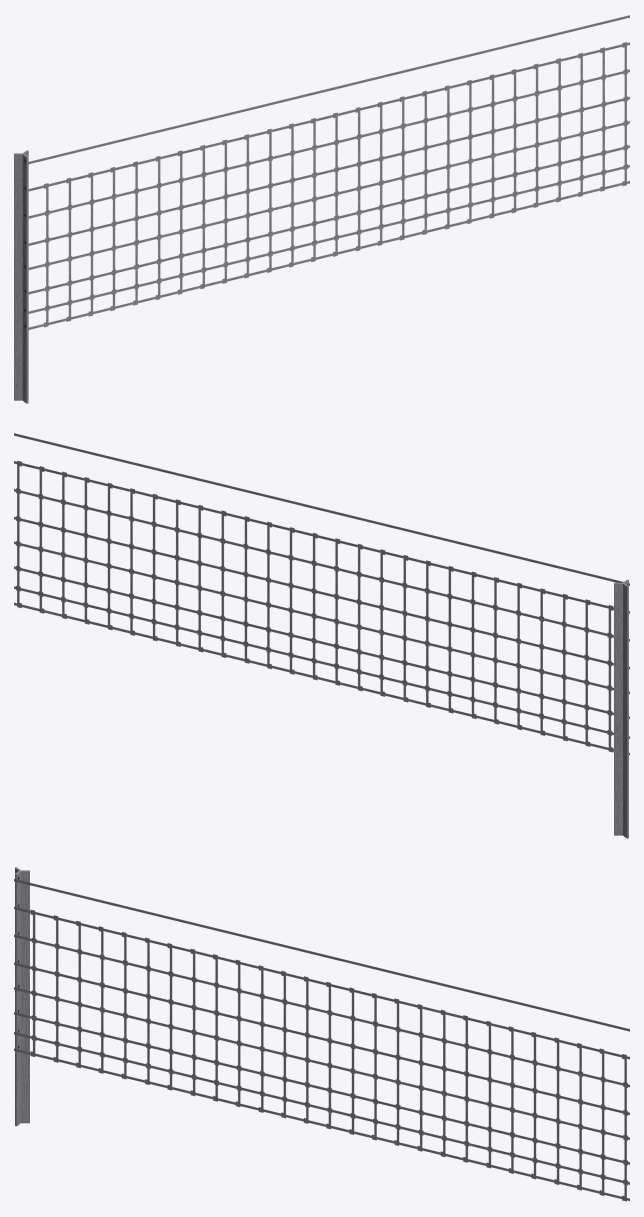
Rendered from fence-low-mesh-1s-cbj_LOD00.gltf.
3 views of the same model, one above another, from view 1: azimuth 30°, elevation 25°; view 2: azimuth 150°, elevation 25°; view 3: azimuth 330°, elevation 25° (orthographic). The views are drawn at different scales.
Visible parts, largest first — view 1: Cube; view 2: Cube; view 3: Cube.
Part boxes in pixels (x1,y1,x2,y2): Cube: [14, 15, 629, 403]; Cube: [14, 433, 629, 838]; Cube: [14, 867, 629, 1201].
Size of the model in its own units: 3.96 by 1.53 by 0.0924.
